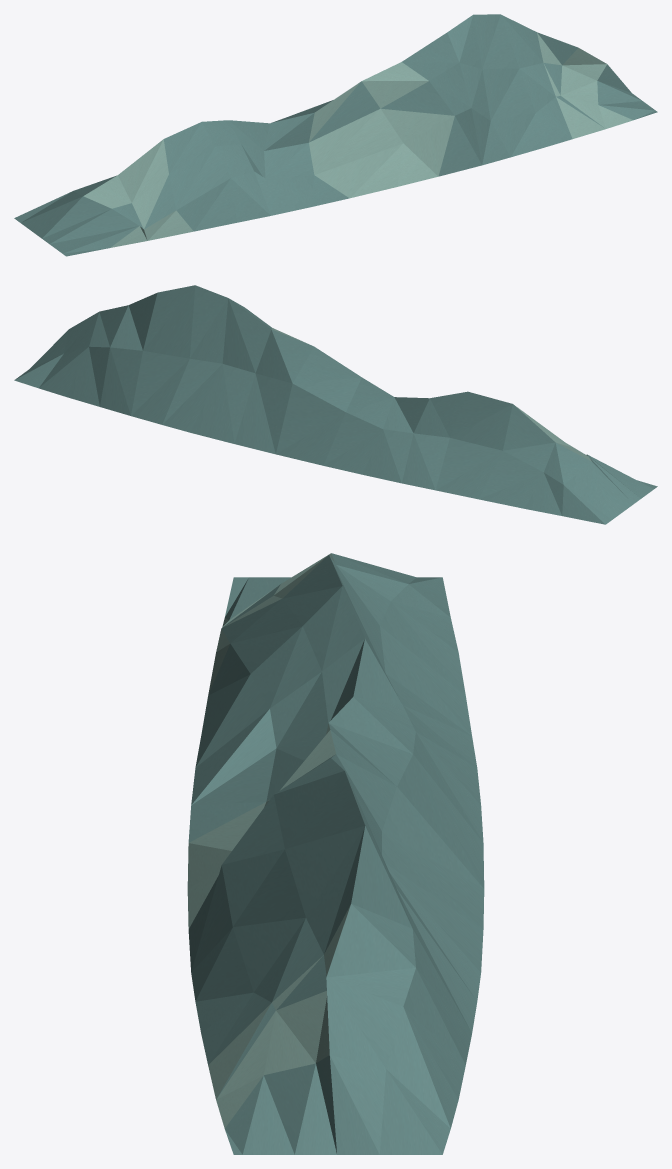
File: 07_mountain_mid.obj
The picture shows the model from 3 angles, top to bottom: view 1: azimuth 30°, elevation 25°; view 2: azimuth 150°, elevation 25°; view 3: azimuth 270°, elevation 25°; orthographic projection. The views are drawn at different scales.
Visible parts, largest first — view 1: Mountain_Mid; view 2: Mountain_Mid; view 3: Mountain_Mid.
Boxes of the visible parts, x1,y1,x2,y2 form: Mountain_Mid: (14,14,657,256); Mountain_Mid: (14,285,657,524); Mountain_Mid: (187,553,484,1154).
Bounding box in the file's own units: 16.4 × 3.06 × 3.56.
Materials: 1 (1 with a texture image).
